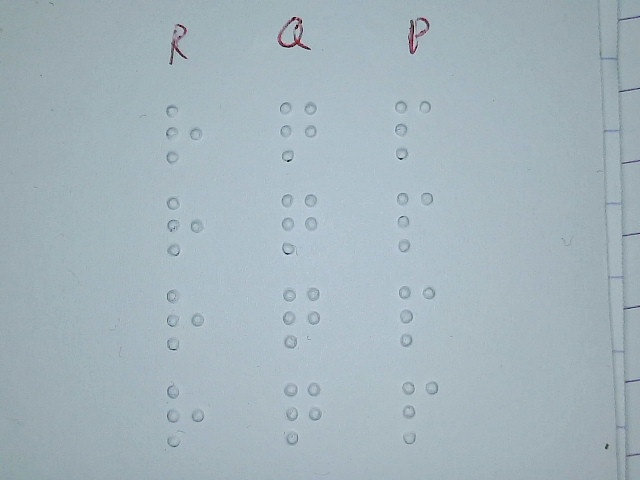P: (400, 379, 440, 444), (397, 283, 437, 346), (393, 98, 433, 160), (395, 190, 435, 252)
Q: (283, 379, 323, 444), (278, 100, 318, 162)
R: (166, 382, 206, 447), (165, 286, 205, 351), (165, 193, 205, 258), (164, 103, 204, 165)
